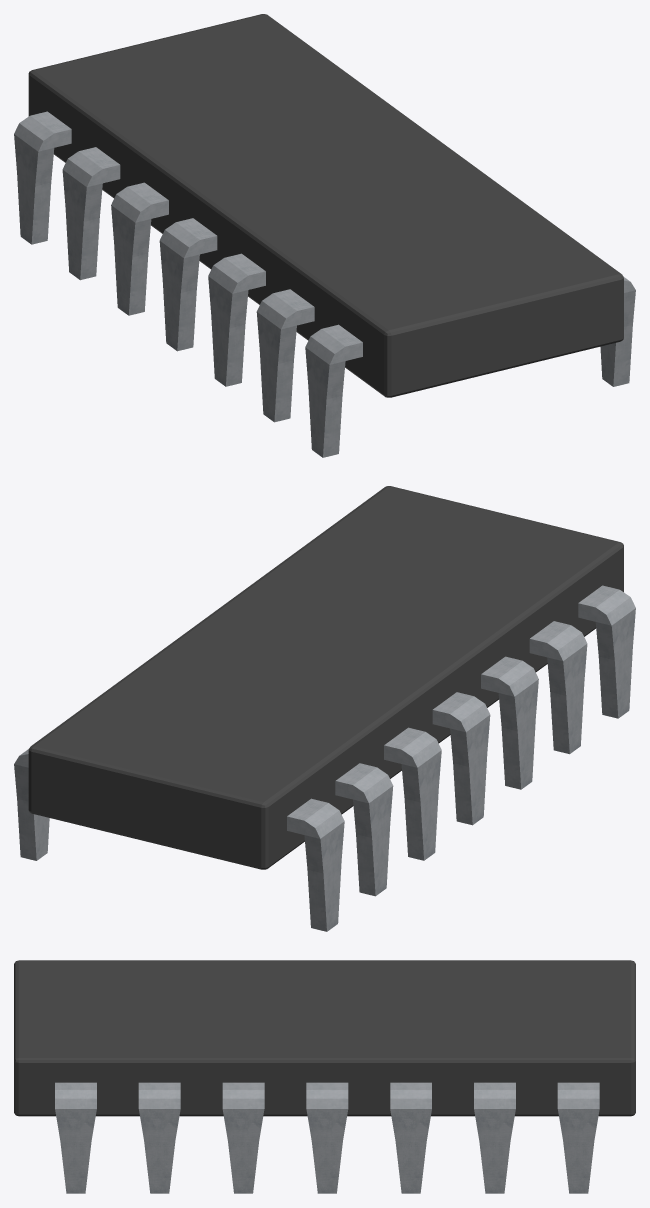
File: LogicBoxWithLegsUV.fbx
3 views of the same model, one above another, from view 1: azimuth 30°, elevation 25°; view 2: azimuth 150°, elevation 25°; view 3: azimuth 270°, elevation 25° (orthographic). The views are drawn at different scales.
Visible parts, largest first — view 1: Cube, Leg; view 2: Cube, Leg; view 3: Cube, Leg.
Boxes of the visible parts, x1=… form: Cube: x1=28, y1=14, x2=623, y2=397; Leg: x1=14, y1=111, x2=635, y2=457; Cube: x1=28, y1=486, x2=623, y2=869; Leg: x1=14, y1=585, x2=635, y2=931; Cube: x1=14, y1=960, x2=635, y2=1116; Leg: x1=55, y1=1082, x2=599, y2=1193.
Size of the model in its own units: 1.3 by 0.5612 by 2.65.
